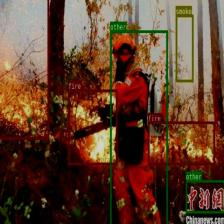fire: (0, 0, 49, 139), (68, 89, 117, 165), (148, 121, 215, 165)
smoke: (176, 14, 194, 82)
